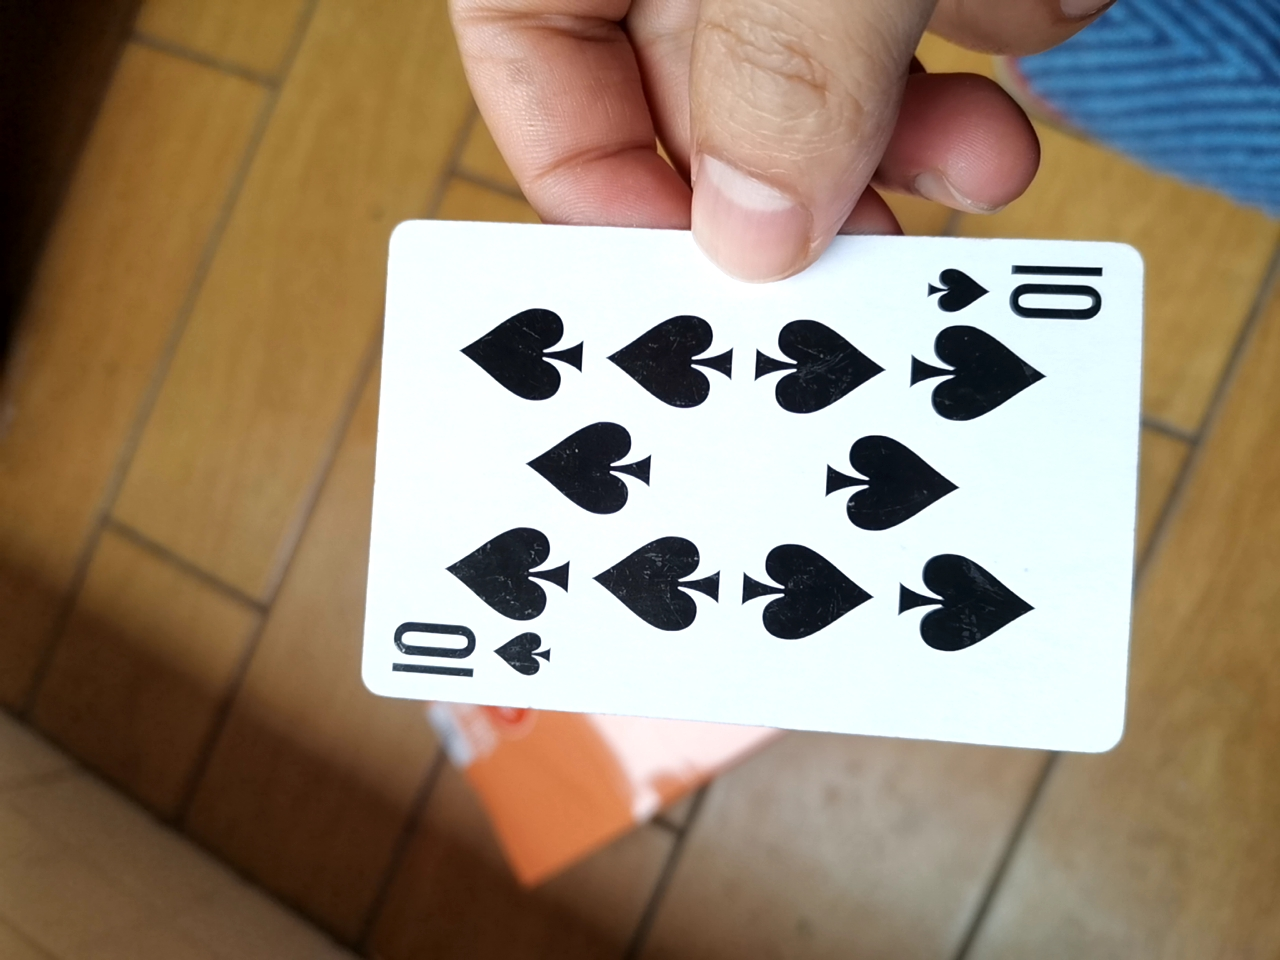ht 10: (336, 208, 1144, 763)
